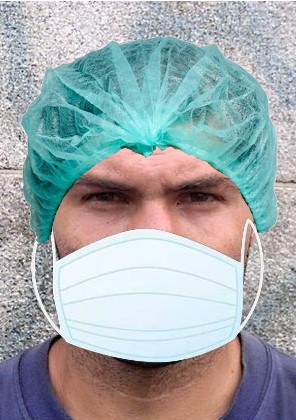with_mask_and_cap: (27, 36, 273, 363)
